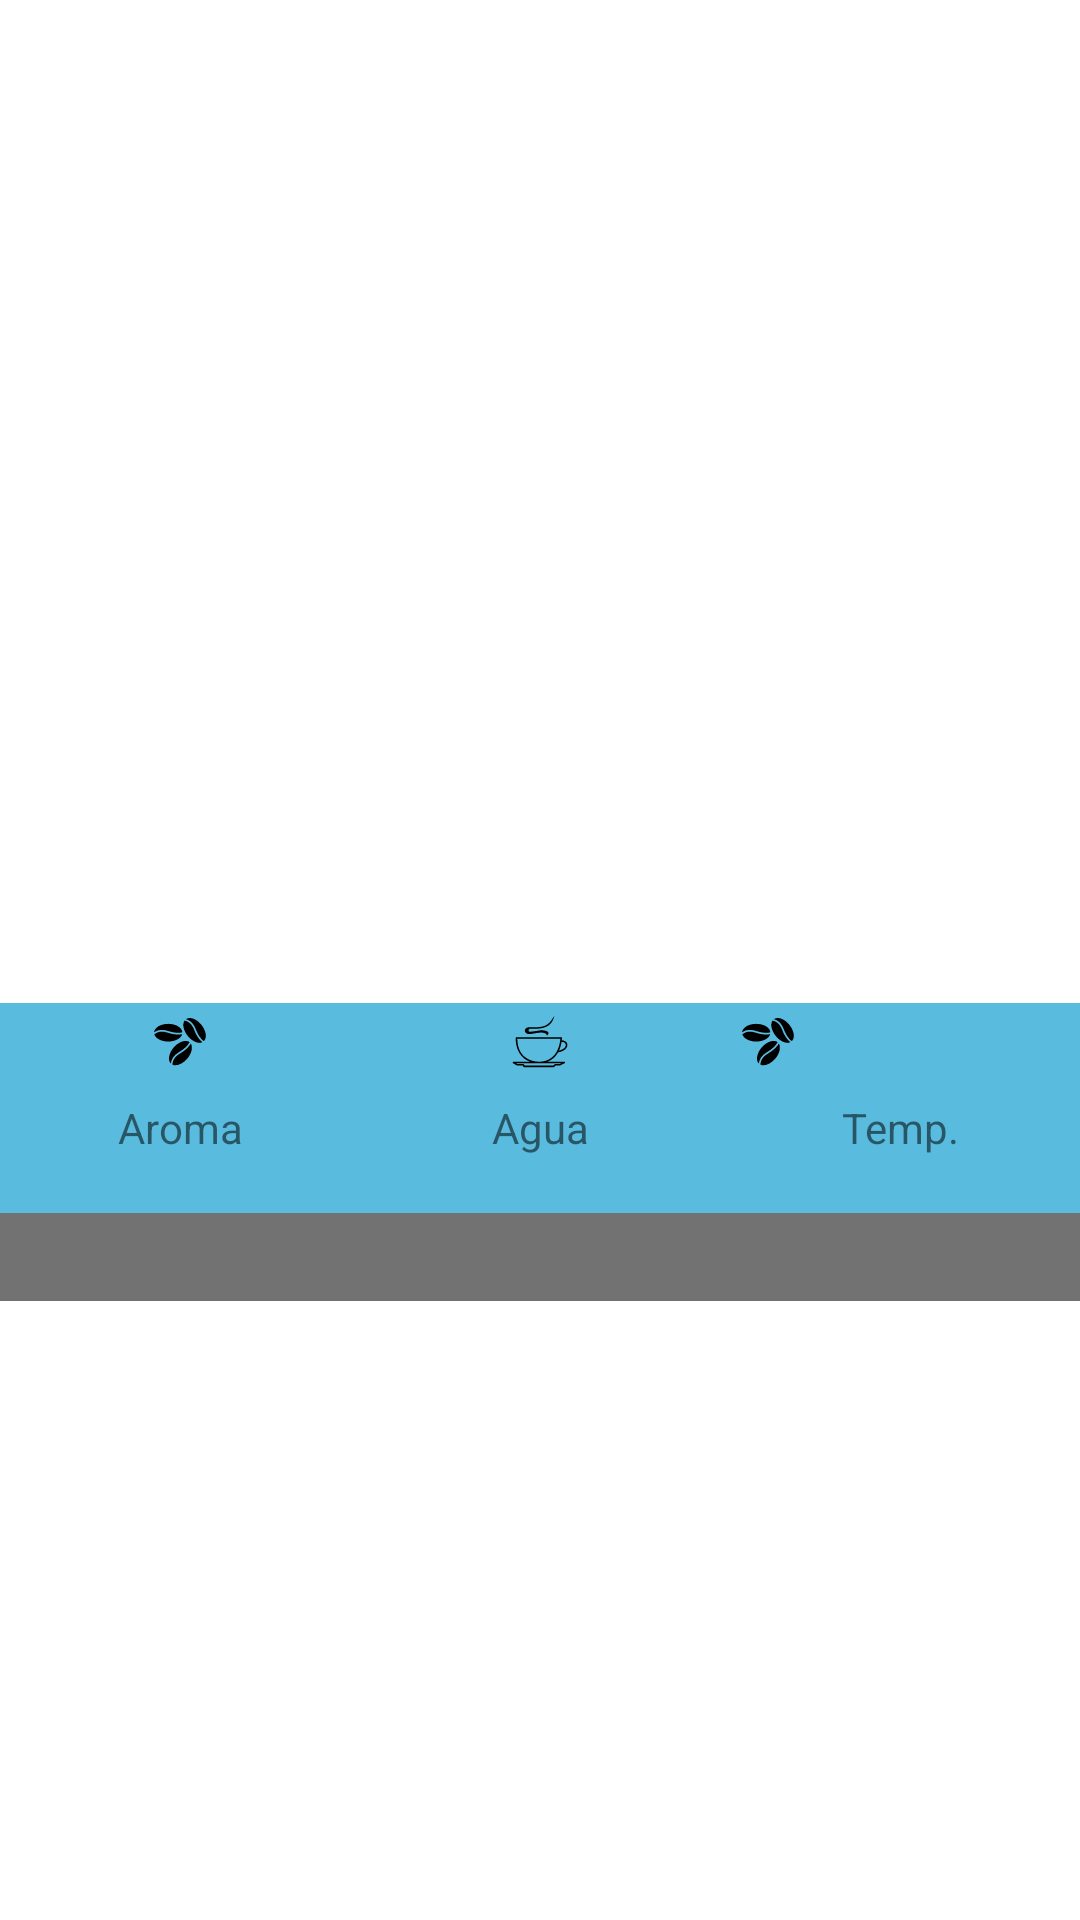

Where to tap for icons on this 1080px x 1920px app screen, as point (x, y):
coffe beans: point (180, 1042), point (768, 1042)
empty coffe cup: point (540, 1042)
